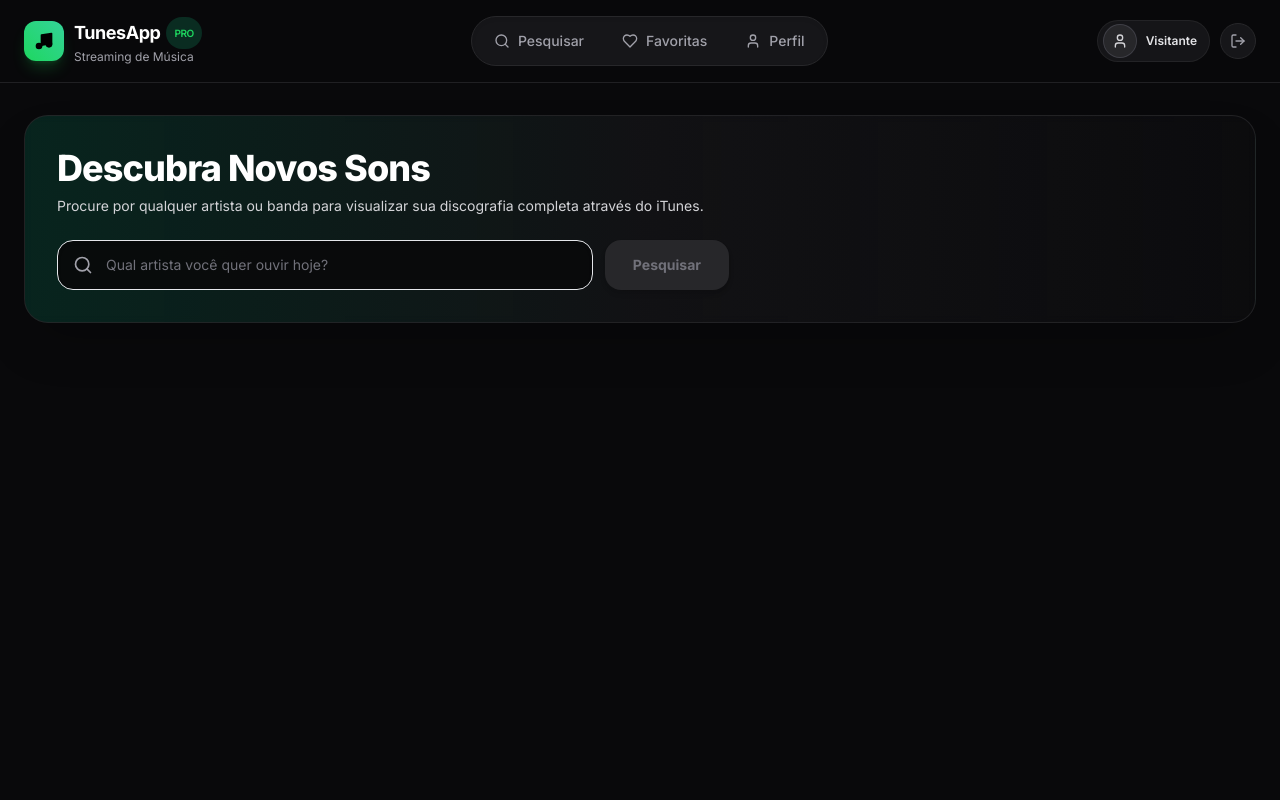
Search Page › searches albums and displays results via iTunes API mock
The width and height of the screenshot is (1280, 800).
Type "Queen" into the field with test id "search-artist-input".
click(325, 265); type("Queen")  # box [57,240,593,290]
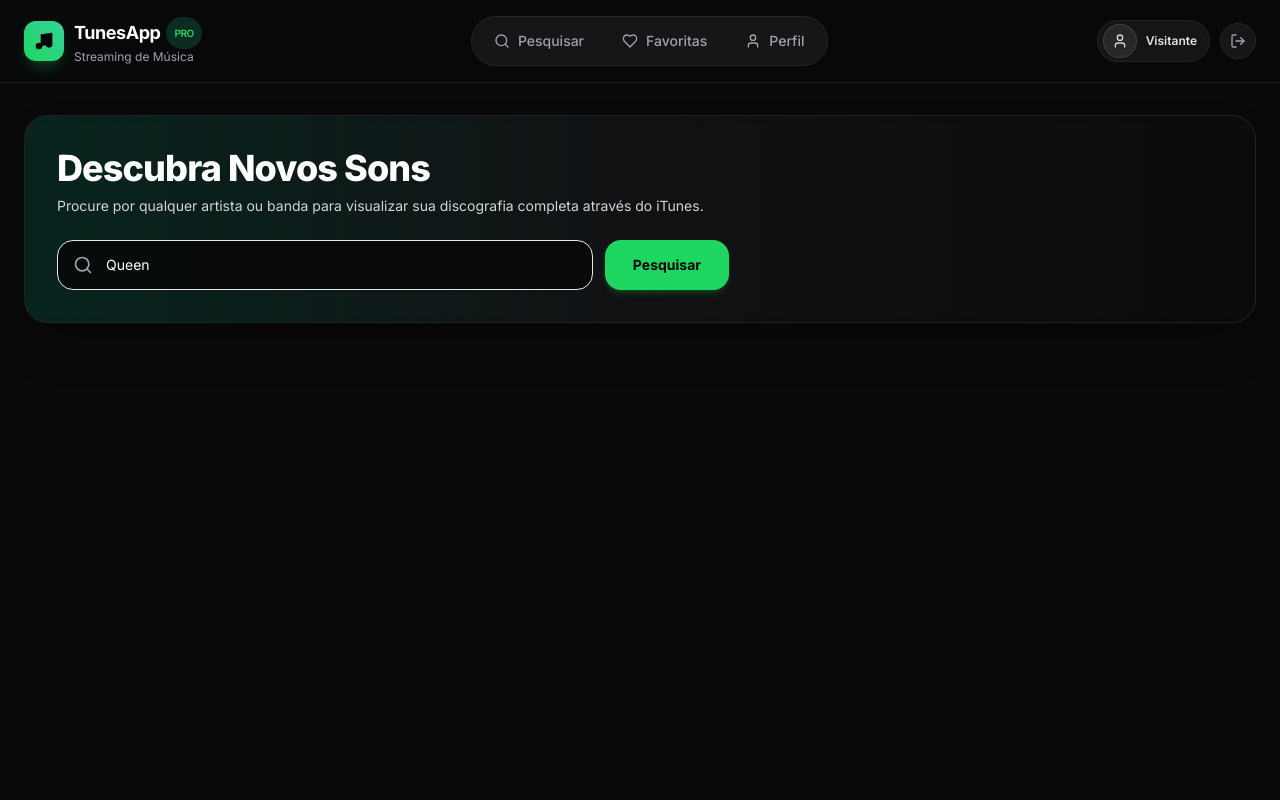
Click the button with test id "search-artist-button".
click(667, 265)  # box [605,240,729,290]
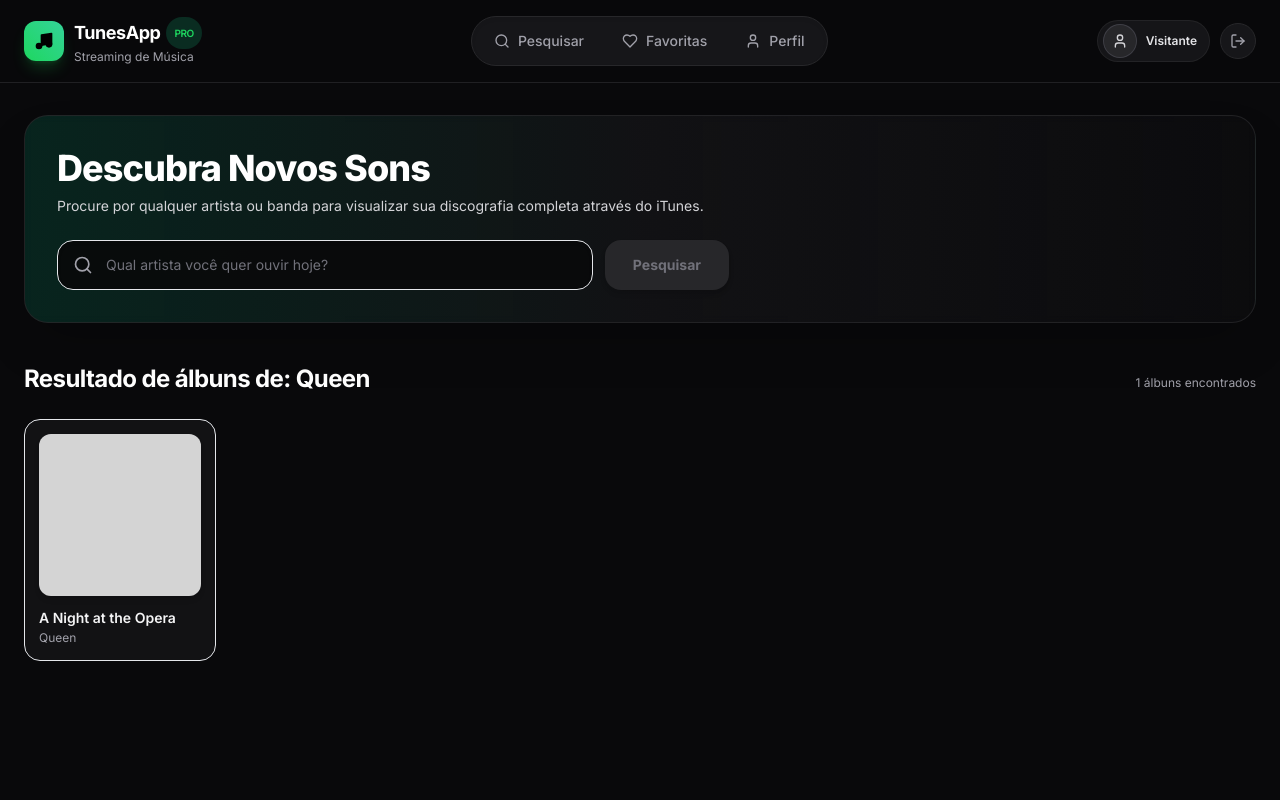
Expected: the heading "Resultado de álbuns de: Queen" is shown, [24,363,370,395]
Expected: the heading "A Night at the Opera" is shown, [39,609,176,626]
